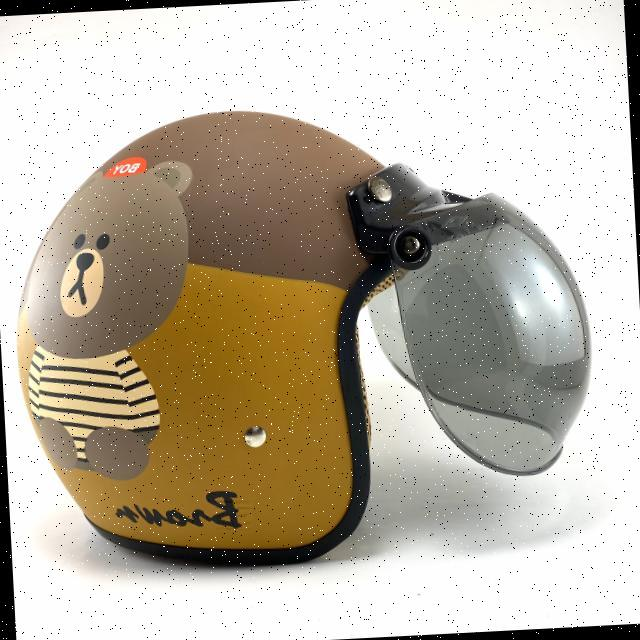Helm: (0, 89, 607, 584)
